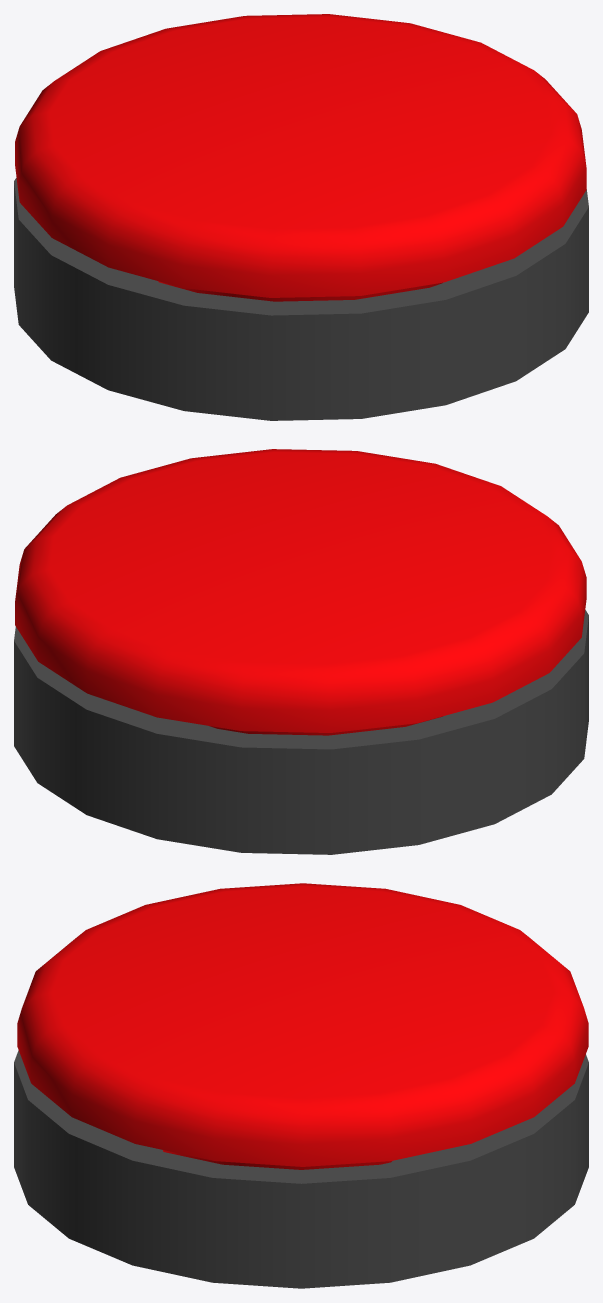
File: Button.gltf
3 renders of one model, top to bottom at view 1: azimuth 30°, elevation 25°; view 2: azimuth 150°, elevation 25°; view 3: azimuth 270°, elevation 25°, orthographic.
Visible parts, largest first — view 1: polySurface1, polySurface2; view 2: polySurface1, polySurface2; view 3: polySurface1, polySurface2.
Part boxes in pixels (<box>): polySurface1: <box>15,14,586,301</box>; polySurface2: <box>14,177,588,420</box>; polySurface1: <box>15,449,586,735</box>; polySurface2: <box>14,610,588,854</box>; polySurface1: <box>17,883,588,1169</box>; polySurface2: <box>14,1050,588,1288</box>.
Bounding box in the file's own units: 1.25 × 0.4202 × 1.25.
